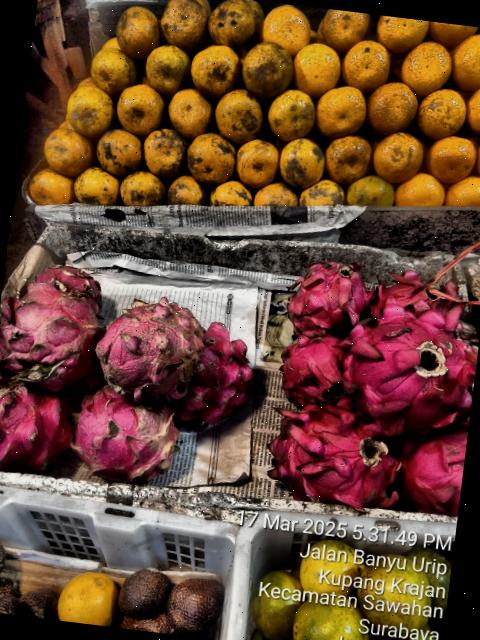buah-naga-belum-matang: (0, 267, 103, 392), (62, 382, 187, 483)
buah-naga-matang: (349, 296, 480, 432), (267, 388, 409, 512), (89, 292, 206, 398), (257, 328, 361, 420), (181, 312, 259, 426), (388, 415, 468, 525), (0, 375, 78, 475), (281, 248, 369, 336), (366, 268, 466, 326)
